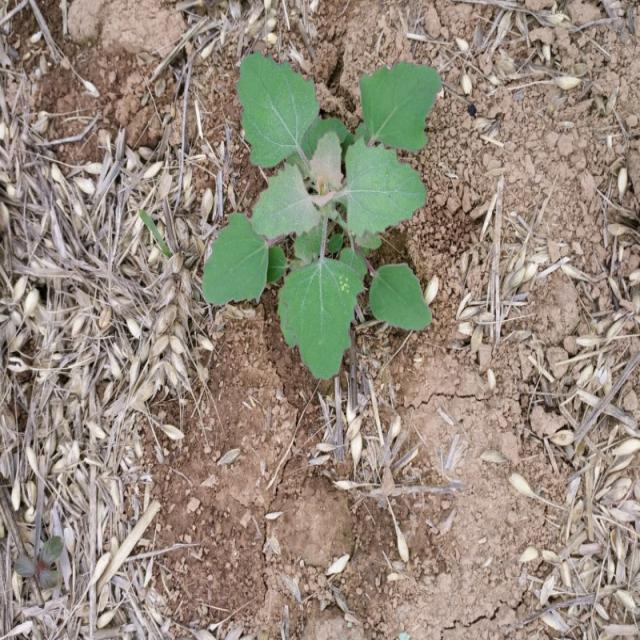ca: (202, 52, 441, 384)
